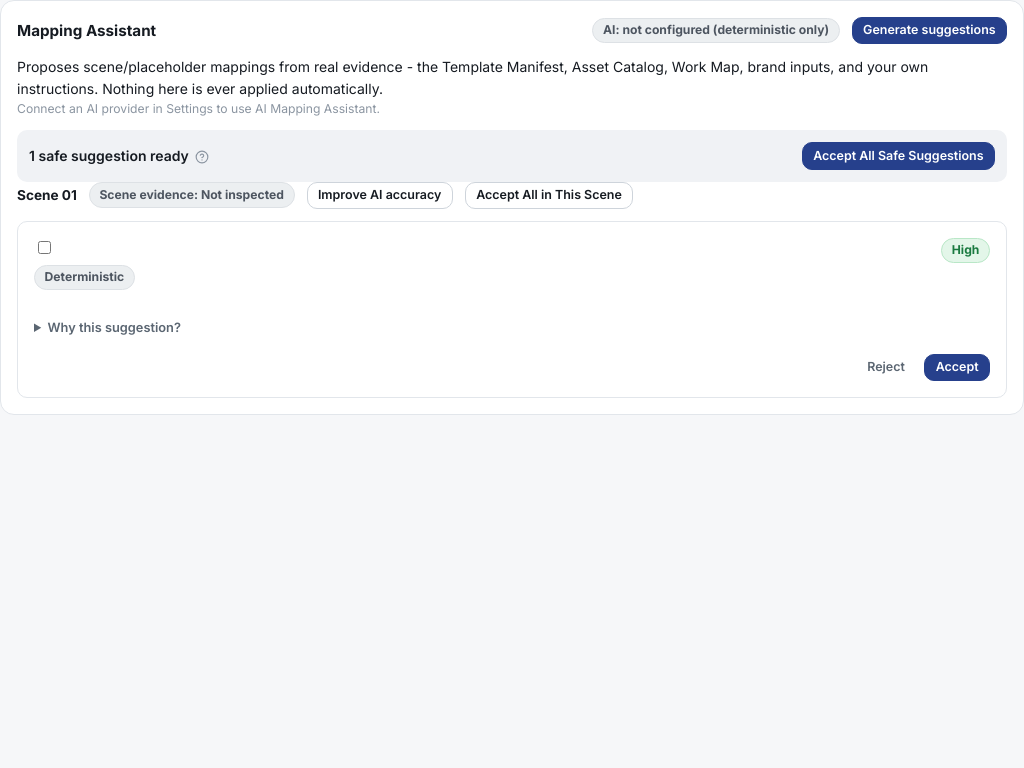
Test: MappingAssistantPanel - bulk accept › confirming accepts exactly the safe suggestion ids via the real accept-batch endpoint, and clears the list on success
Expected: the text "1 safe suggestion ready" is shown, [29,145,211,167]
Click the button "Accept All Safe Suggestions" at [898, 156], box [802,142,995,170]
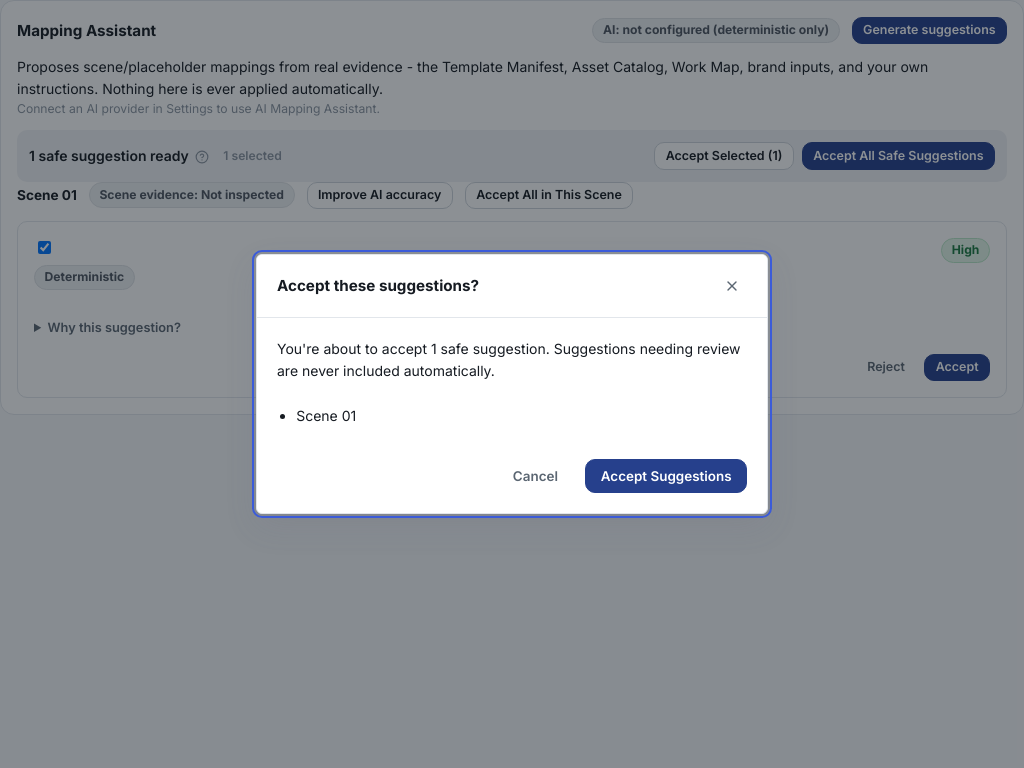
Expected: the text "Accept these suggestions?" is shown, [277,274,479,298]
Click the button "Accept Suggestions" at [666, 476], box [585,459,747,493]
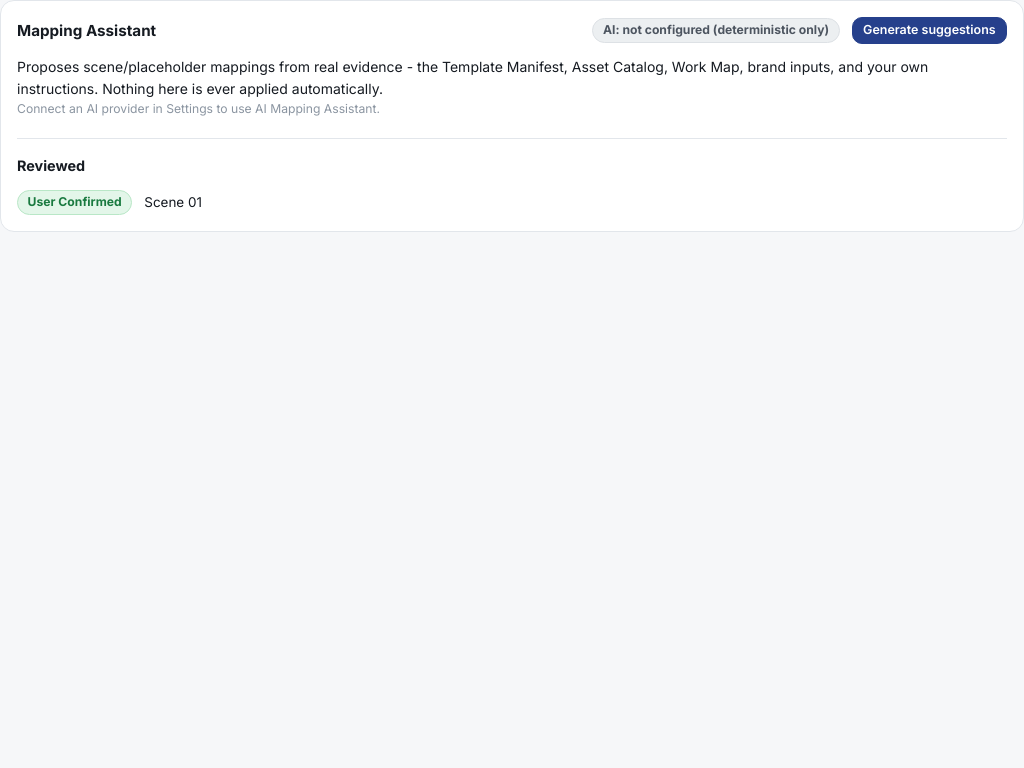
Expected: the text "1 safe suggestion ready" is gone
